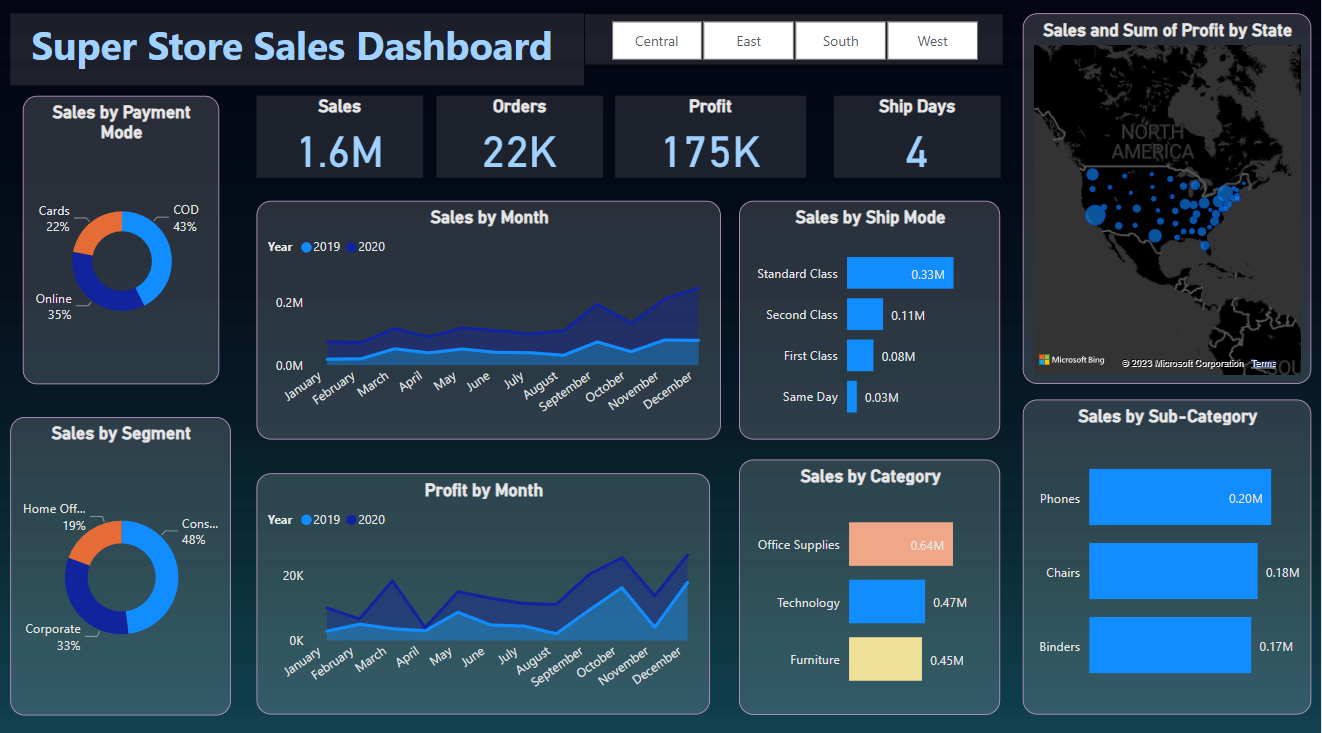

The dashboard page shown, as its layout file describes it:
{"tool":"powerbi","page":{"name":"Page 1","canvas":[1280,720],"ordinal":0},"visuals":[{"type":"clusteredBarChart","title":"Sales by Category","fields":{"Category":["SuperStore_Sales_Dataset.Category"],"Y":["Sum(SuperStore_Sales_Dataset.Sales)"]},"box":[718.4,451.1,252.3,246.8],"z":0},{"type":"clusteredBarChart","title":"Sales by Sub-Category","fields":{"Category":["SuperStore_Sales_Dataset.Sub-Category"],"Y":["Sum(SuperStore_Sales_Dataset.Sales)"]},"box":[992.6,393.5,278.3,304.4],"z":1000},{"type":"clusteredBarChart","title":"Sales by Ship Mode","fields":{"Category":["SuperStore_Sales_Dataset.Ship Mode"],"Y":["Sum(SuperStore_Sales_Dataset.Sales)"]},"box":[718.4,201.5,252.3,230.3],"z":2000},{"type":"stackedAreaChart","title":"Sales by Month","fields":{"Y":["Sum(SuperStore_Sales_Dataset.Sales)"],"Category":["SuperStore_Sales_Dataset.Order Date.Variation.Date Hierarchy.Month","SuperStore_Sales_Dataset.Order Date.Variation.Date Hierarchy.Day"],"Series":["SuperStore_Sales_Dataset.Order Date.Variation.Date Hierarchy.Year"]},"box":[253.6,201.5,448.3,230.3],"z":3000},{"type":"stackedAreaChart","title":"Profit by Month","fields":{"Category":["SuperStore_Sales_Dataset.Order Date.Variation.Date Hierarchy.Month","SuperStore_Sales_Dataset.Order Date.Variation.Date Hierarchy.Day"],"Series":["SuperStore_Sales_Dataset.Order Date.Variation.Date Hierarchy.Year"],"Y":["Sum(SuperStore_Sales_Dataset.Profit)"]},"box":[253.6,464.8,437.4,233.1],"z":4000},{"type":"map","title":"Sales and Sum of Profit by State","fields":{"Category":["SuperStore_Sales_Dataset.State"],"Size":["Sum(SuperStore_Sales_Dataset.Sales)"]},"box":[992.6,20.6,278.3,357.8],"z":5000},{"type":"donutChart","title":"Sales by Segment","fields":{"Category":["SuperStore_Sales_Dataset.Segment"],"Y":["Sum(SuperStore_Sales_Dataset.Sales)"]},"box":[15.1,409.9,212.5,287.9],"z":6000},{"type":"donutChart","title":"Sales by Payment Mode","fields":{"Category":["SuperStore_Sales_Dataset.Payment Mode"],"Y":["Sum(SuperStore_Sales_Dataset.Sales)"]},"box":[27.4,100.1,189.2,278.3],"z":7000},{"type":"slicer","fields":{"Values":["SuperStore_Sales_Dataset.Region"]},"box":[569,20.6,404.5,50.7],"z":8000},{"type":"textbox","box":[15.1,20.6,553.9,69.9],"z":9000},{"type":"card","title":"Sales","fields":{"Values":["Sum(SuperStore_Sales_Dataset.Sales)"]},"box":[253.6,100.1,160.4,79.5],"z":10000},{"type":"card","title":"Orders","fields":{"Values":["Sum(SuperStore_Sales_Dataset.Quantity)"]},"box":[426.4,100.1,160.4,79.5],"z":11000},{"type":"card","title":"Profit","fields":{"Values":["Sum(SuperStore_Sales_Dataset.Profit)"]},"box":[599.1,100.1,183.7,79.5],"z":12000},{"type":"card","title":"Ship Days","fields":{"Values":["Avg(SuperStore_Sales_Dataset.AvgDelivery)"]},"box":[810.3,100.1,160.4,79.5],"z":13000}]}

Visuals, with their boxes in screenshot pixels (x1, y1, x2, y2), scaled from the page's 1280x720 canvas onto the 1322x733 screenshot:
"Sales by Category" clusteredBarChart: 742:459:1003:711
"Sales by Sub-Category" clusteredBarChart: 1025:401:1313:711
"Sales by Ship Mode" clusteredBarChart: 742:205:1003:440
"Sales by Month" stackedAreaChart: 262:205:725:440
"Profit by Month" stackedAreaChart: 262:473:714:711
"Sales and Sum of Profit by State" map: 1025:21:1313:385
"Sales by Segment" donutChart: 16:417:235:710
"Sales by Payment Mode" donutChart: 28:102:224:385
slicer - SuperStore_Sales_Dataset.Region: 588:21:1005:73
textbox: 16:21:588:92
"Sales" card: 262:102:428:183
"Orders" card: 440:102:606:183
"Profit" card: 619:102:808:183
"Ship Days" card: 837:102:1003:183
